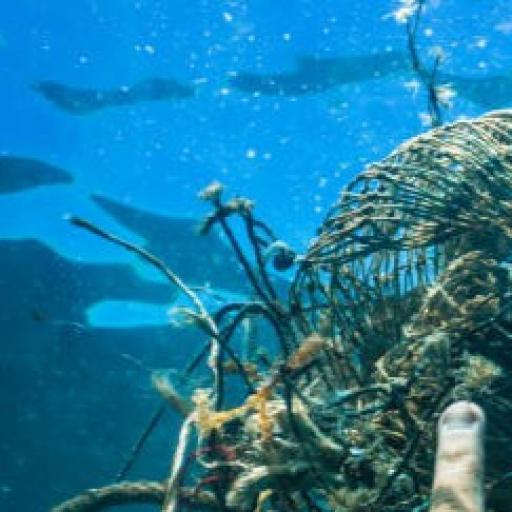net: (46, 105, 512, 512)
